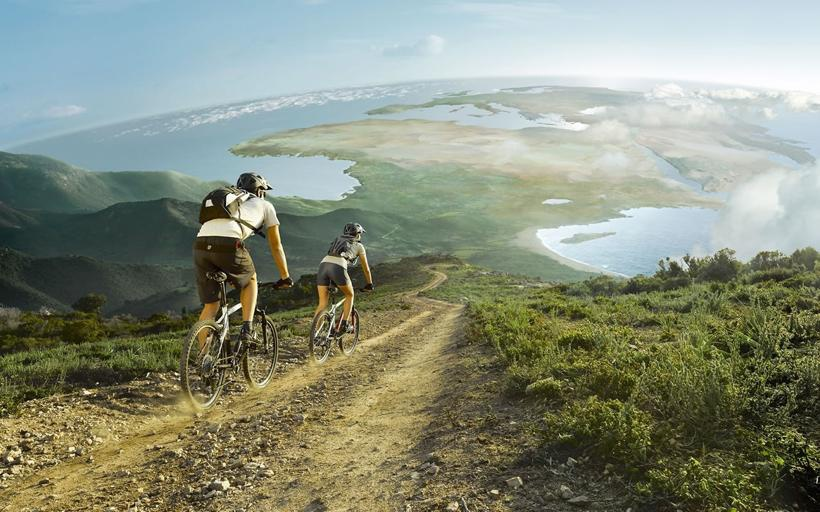non-vehicle: (176, 270, 288, 412), (308, 278, 368, 363)
